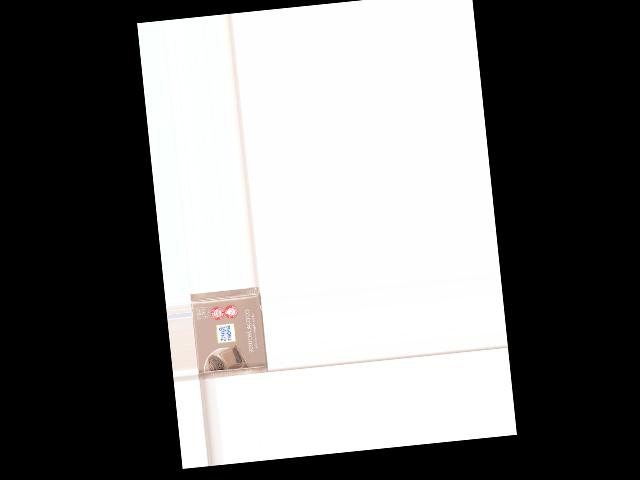chocolate: (190, 288, 269, 379)
